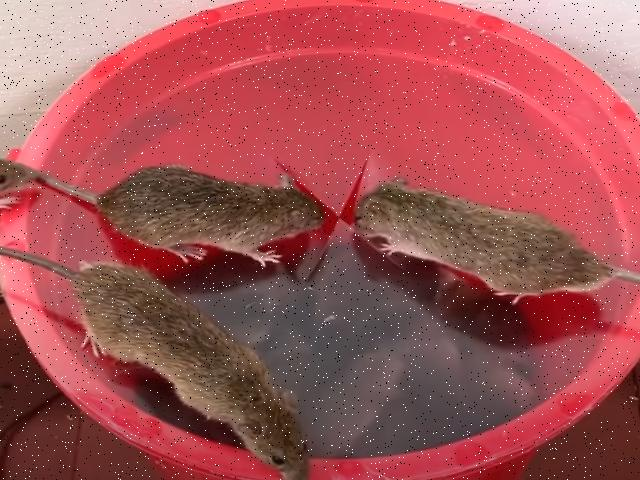Tikus: (2, 244, 310, 480), (349, 174, 640, 302), (21, 168, 327, 266)
